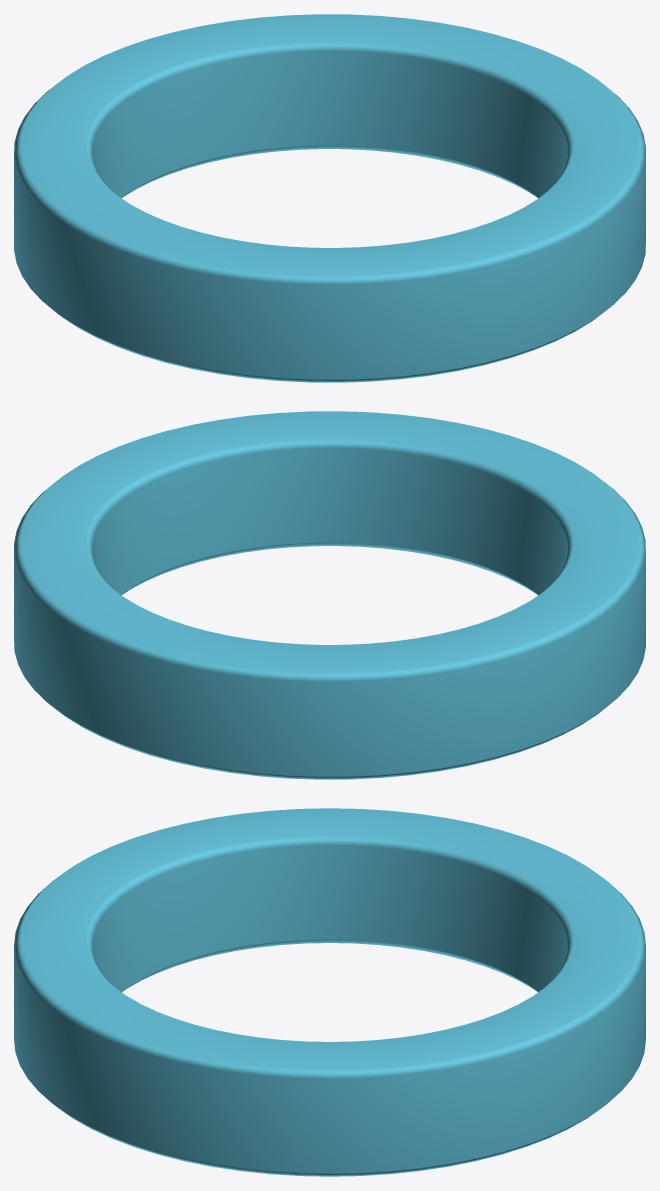
3 views of the same model, one above another, from view 1: azimuth 30°, elevation 25°; view 2: azimuth 150°, elevation 25°; view 3: azimuth 270°, elevation 25° (orthographic).
Visible parts, largest first — view 1: seal_body; view 2: seal_body; view 3: seal_body.
Boxes of the visible parts, <box> form: seal_body: <box>14,14,645,382</box>; seal_body: <box>14,411,645,779</box>; seal_body: <box>14,808,645,1176</box>.
Bounding box in the file's own units: 0.0508 × 0.00952 × 0.0508.
